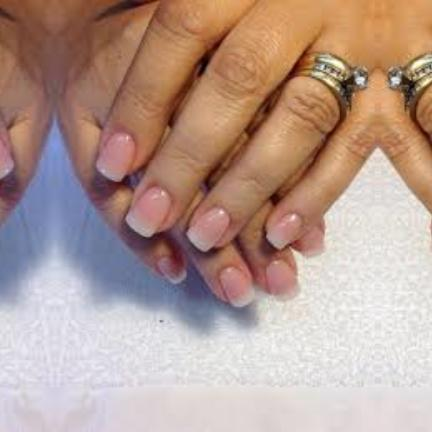Nail: (125, 187, 170, 237), (185, 208, 229, 253), (94, 133, 134, 180), (219, 267, 254, 306), (268, 212, 303, 249), (266, 260, 297, 294), (156, 258, 188, 284), (302, 227, 323, 255), (0, 141, 14, 179), (432, 236, 432, 242)
